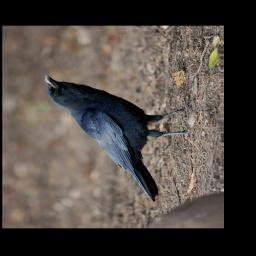Crow: (44, 72, 193, 202)
